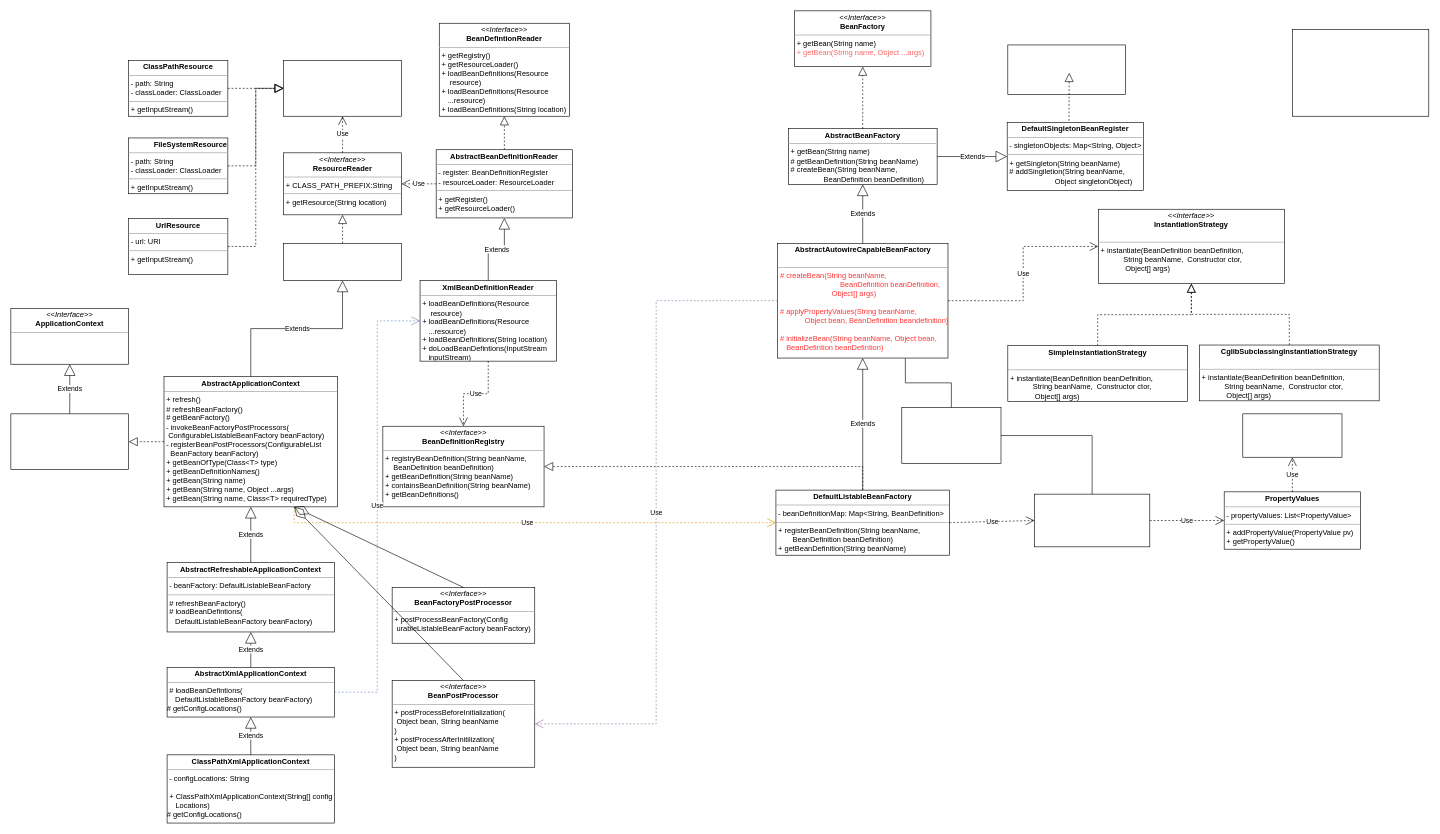
This 1440x834 diagram has some shape labels left out. Here are the shapes that lost their labels. From the top down, the centre of each, then its label:
At point 342,88: "<<Interface>> Resource + getInputStream()".
At point 1066,69: "<<Interface>> SingletonBeanRegister + getSingleton(String beanName)".
At point 1360,72: "<<Interface>> ListableFactory + getBeansOfType(Class<T> type)".
At point 342,262: "DefaultResourceLoader + getResource(String location)".
At point 69,441: "<<Interface>> ConfigurableApplicationContext + refresh()".
At point 951,435: "BeanReference + beanName: String + getBeanName()".
At point 1292,435: "PropertyValue - name: String - value: Object".
At point 1092,520: "BeanDefinition - beanClass: Class - propertyValues: PropertyValues".
